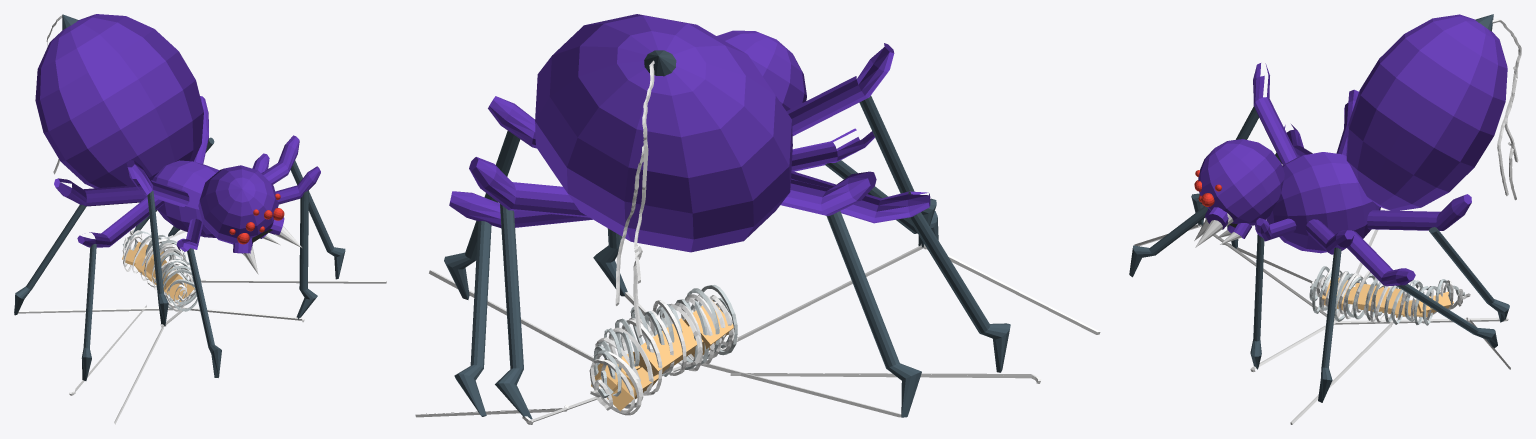
The model's file is static_giant_spider_b.glb.
3 views of the same model, side by side, from view 1: azimuth 30°, elevation 25°; view 2: azimuth 150°, elevation 25°; view 3: azimuth 270°, elevation 25° (orthographic). The views are drawn at different scales.
Visible parts, largest first — view 1: group936341094, group1804470142, group117158287, group324432162, group1212614419, group690697750, group388357877, group113489645, group187826392, group824677050, group1190289990, group1105904974 (+7 smaller); view 2: group936341094, group117158287, group1105904974, group1804470142, group380306467, group1539461444, group113489645, group1601940083, group1190289990, group1212614419, group690697750, group106901729 (+13 smaller); view 3: group936341094, group324432162, group1804470142, group117158287, group1539461444, group113489645, group106901729, group1781074591, group380306467, group388357877, group187826392, group1601940083 (+10 smaller).
Part boxes in pixels (box(x1,y1,x2,y2)): group936341094: box(35, 14, 203, 188); group1804470142: box(198, 165, 278, 244); group117158287: box(122, 230, 201, 311); group324432162: box(152, 160, 219, 237); group1212614419: box(54, 178, 147, 206); group690697750: box(77, 197, 164, 247); group388357877: box(296, 190, 317, 319); group113489645: box(126, 160, 189, 206); group187826392: box(187, 248, 221, 377); group824677050: box(147, 191, 168, 325); group1190289990: box(81, 239, 96, 380); group1105904974: box(14, 204, 86, 315); group936341094: box(535, 14, 792, 252); group117158287: box(589, 285, 737, 415); group1105904974: box(826, 211, 921, 417); group1804470142: box(717, 30, 806, 110); group380306467: box(495, 204, 532, 419); group1539461444: box(469, 157, 589, 217); group113489645: box(786, 43, 894, 135); group1601940083: box(454, 221, 491, 416); group1190289990: box(908, 212, 1010, 372); group1212614419: box(780, 171, 876, 215); group690697750: box(791, 171, 930, 223); group106901729: box(449, 191, 592, 227); group936341094: box(1346, 14, 1507, 210); group324432162: box(1266, 152, 1380, 253); group1804470142: box(1198, 139, 1284, 225); group117158287: box(1309, 266, 1470, 325); group1539461444: box(1367, 194, 1471, 230); group113489645: box(1253, 63, 1298, 164); group106901729: box(1347, 231, 1415, 286); group1781074591: box(1318, 247, 1341, 402); group380306467: box(1429, 227, 1509, 322); group388357877: box(1250, 234, 1264, 369); group187826392: box(1129, 206, 1208, 277); group1601940083: box(1396, 283, 1497, 348).
Size of the model in its own units: 1.25 by 0.9116 by 1.1.
